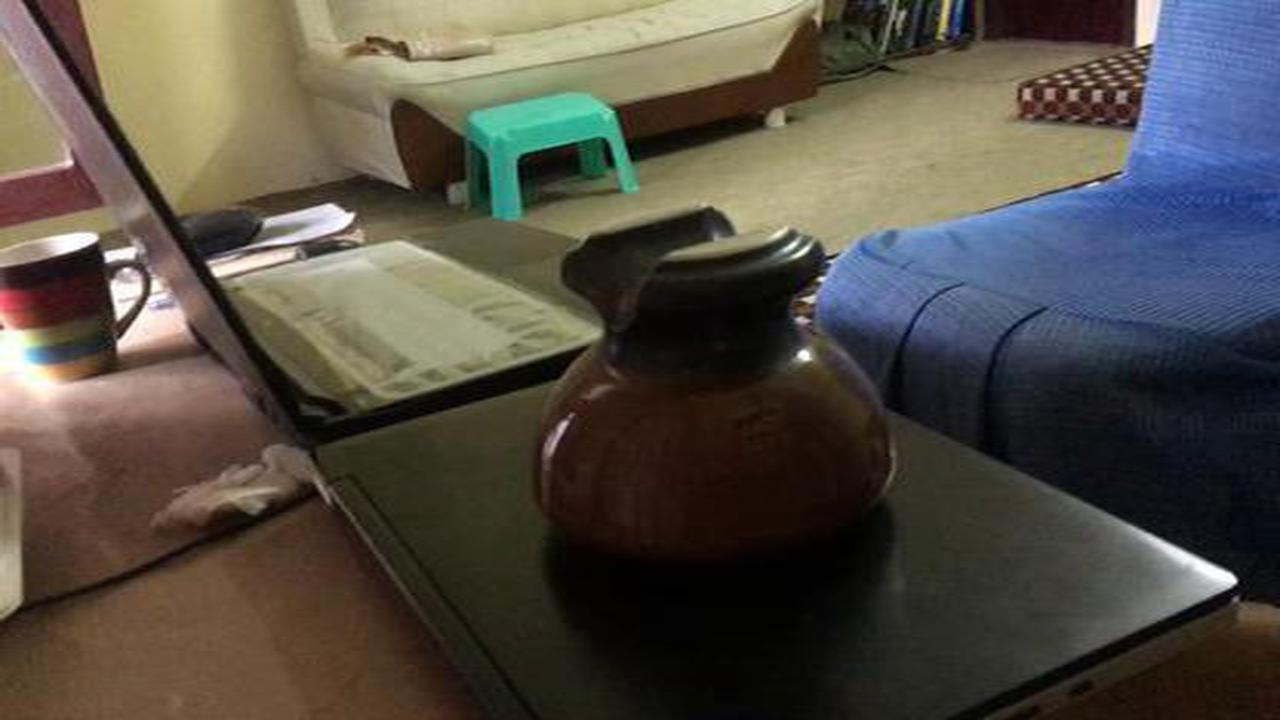insulator_pin: (517, 193, 921, 594)
